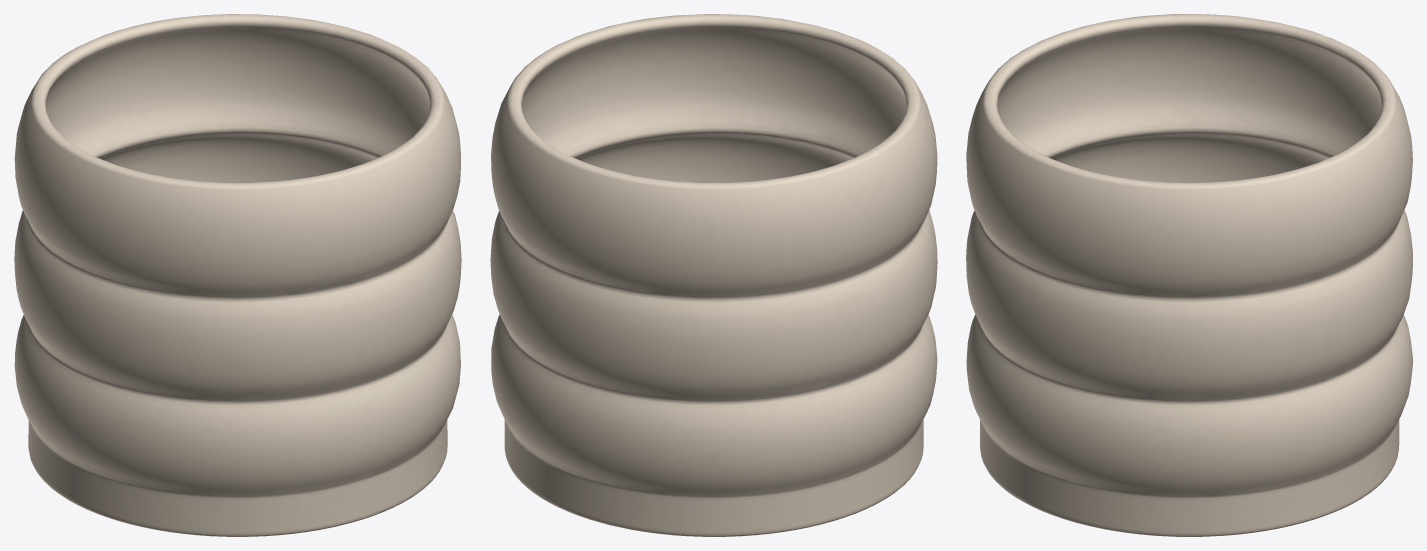
The picture shows the model from 3 angles, left to right: view 1: azimuth 30°, elevation 25°; view 2: azimuth 150°, elevation 25°; view 3: azimuth 270°, elevation 25°; orthographic projection.
Visible parts, largest first — view 1: ASY_ART_10641356_S01_NV01; view 2: ASY_ART_10641356_S01_NV01; view 3: ASY_ART_10641356_S01_NV01.
Part boxes in pixels (bbox=[...]): ASY_ART_10641356_S01_NV01: bbox=[14, 14, 461, 536]; ASY_ART_10641356_S01_NV01: bbox=[490, 14, 937, 536]; ASY_ART_10641356_S01_NV01: bbox=[966, 14, 1412, 536].
Bounding box in the file's own units: 0.1494 × 0.1291 × 0.1494.
Materials: 1 (1 with a texture image).
